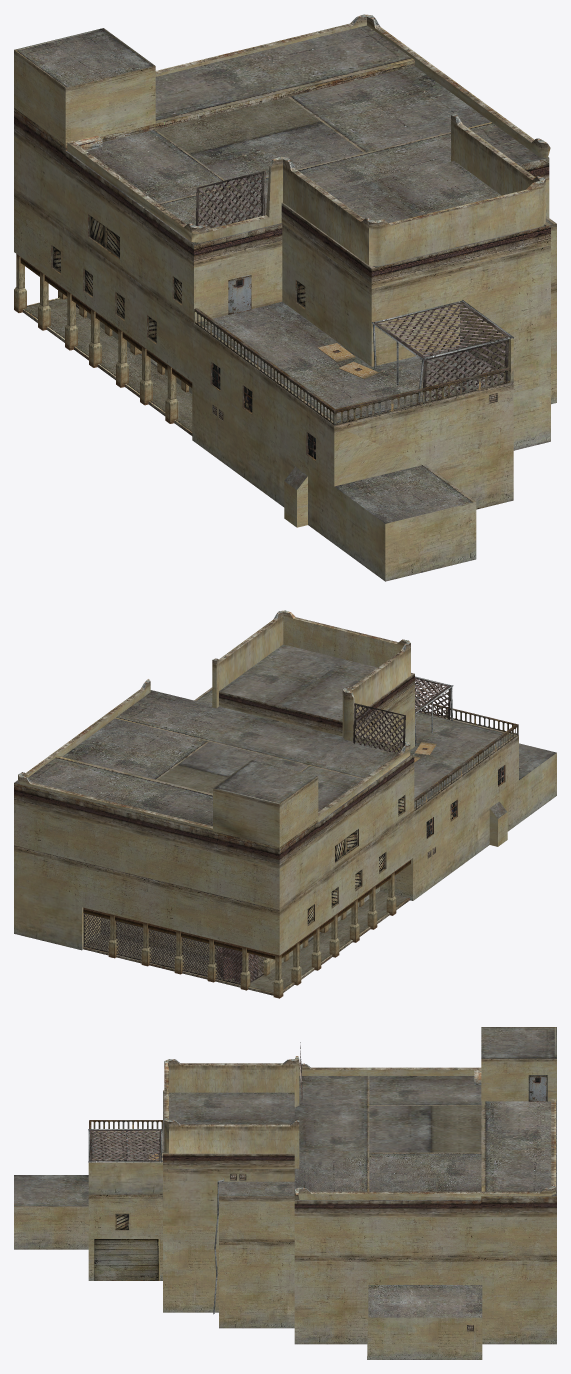
File: mctargcd.glb
The picture shows the model from 3 angles, top to bottom: view 1: azimuth 30°, elevation 25°; view 2: azimuth 150°, elevation 25°; view 3: azimuth 270°, elevation 25°; orthographic projection. The views are drawn at different scales.
Visible parts, largest first — view 1: _mctargcd; view 2: _mctargcd; view 3: _mctargcd.
Boxes of the visible parts, x1,y1,x2,y2 form: _mctargcd: [14, 14, 556, 581]; _mctargcd: [14, 610, 556, 998]; _mctargcd: [14, 1027, 556, 1359].
Size of the model in its own units: 37.25 by 22.62 by 58.25.
Materials: 5 (5 with a texture image).
